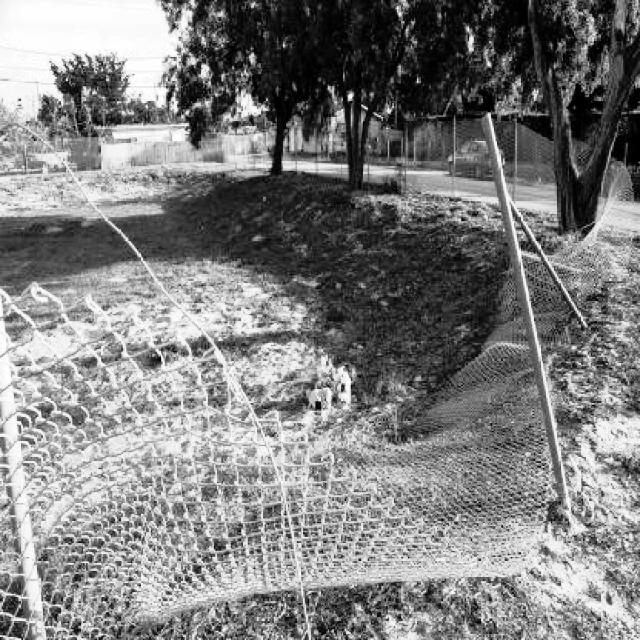anomaly-fence: (0, 113, 634, 613)
